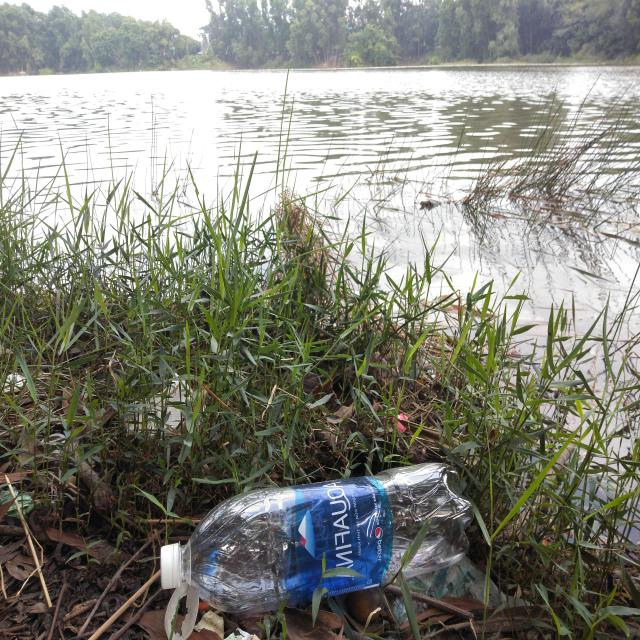plastic: (157, 458, 476, 608)
